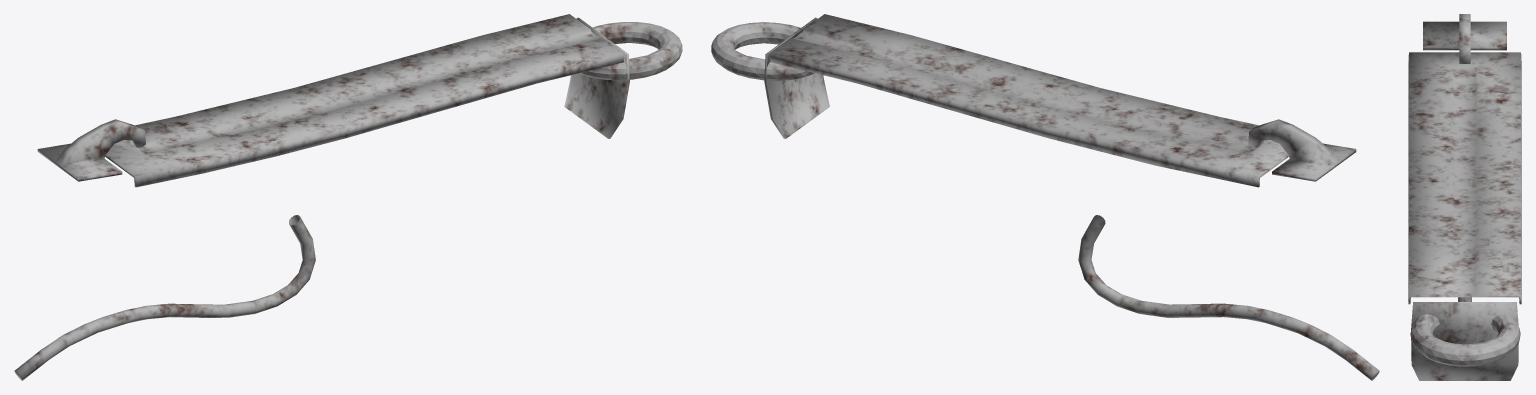
File: Xbow_LP.003.fbx
3 renders of one model, left to right at view 1: azimuth 30°, elevation 25°; view 2: azimuth 150°, elevation 25°; view 3: azimuth 270°, elevation 25°, orthographic. The views are drawn at different scales.
Visible parts, largest first — view 1: Xbow_LP.003_Baked; view 2: Xbow_LP.003_Baked; view 3: Xbow_LP.003_Baked.
Part boxes in pixels (bbox=[...]): Xbow_LP.003_Baked: bbox=[14, 14, 682, 380]; Xbow_LP.003_Baked: bbox=[711, 14, 1379, 380]; Xbow_LP.003_Baked: bbox=[1408, 14, 1521, 380].
Size of the model in its own units: 563 by 192 by 80.73.
Materials: 1 (1 with a texture image).
